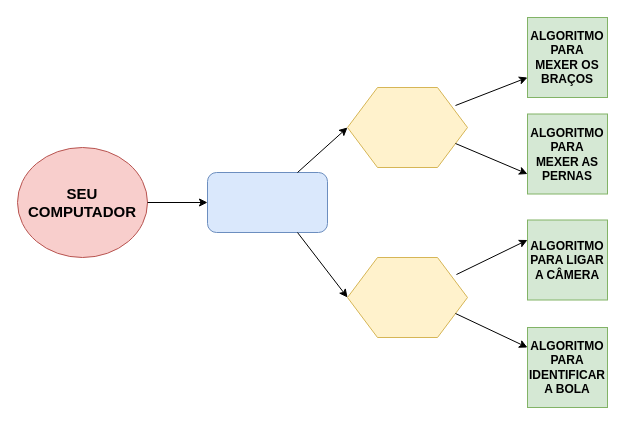
The diagram is 625 pixels wide and 425 high, and some of its shapes have lost their labels. The shapes that lost their labels are listed below. From the top down, each one's centre as x and y in pixels, then its label:
point (407, 127): PACKAGE "ANDAR"
point (267, 202): WORKSPACE
point (407, 297): PACKAGE "iDENTIFICAR"
